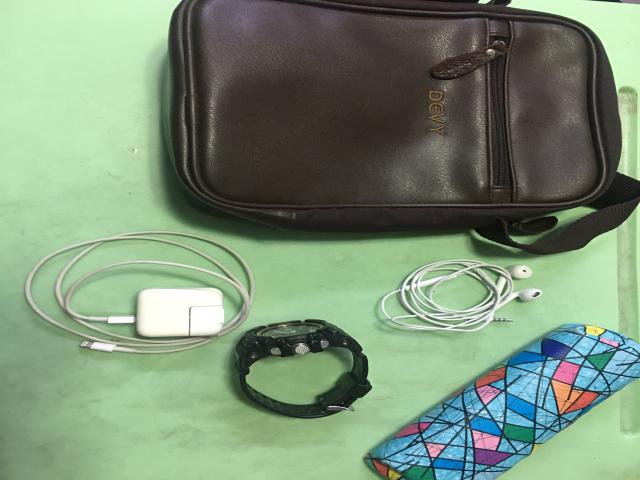Wallet: (235, 319, 372, 418)
wire: (23, 231, 255, 353), (382, 260, 542, 332)
